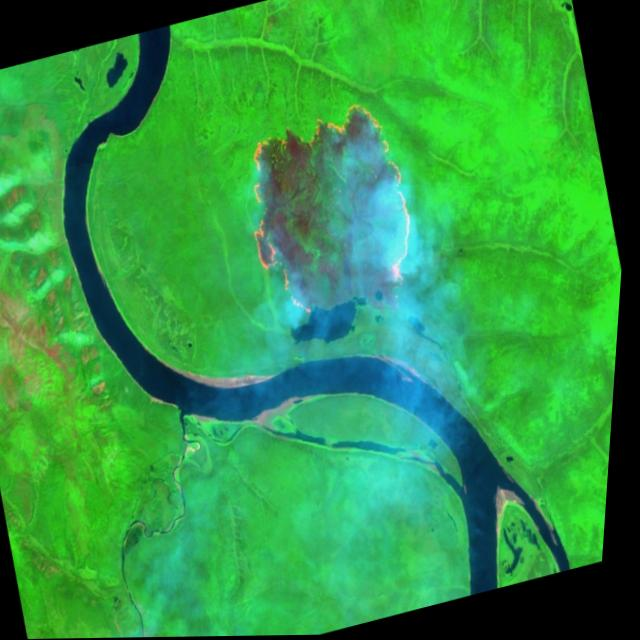fire: (218, 86, 451, 341)
